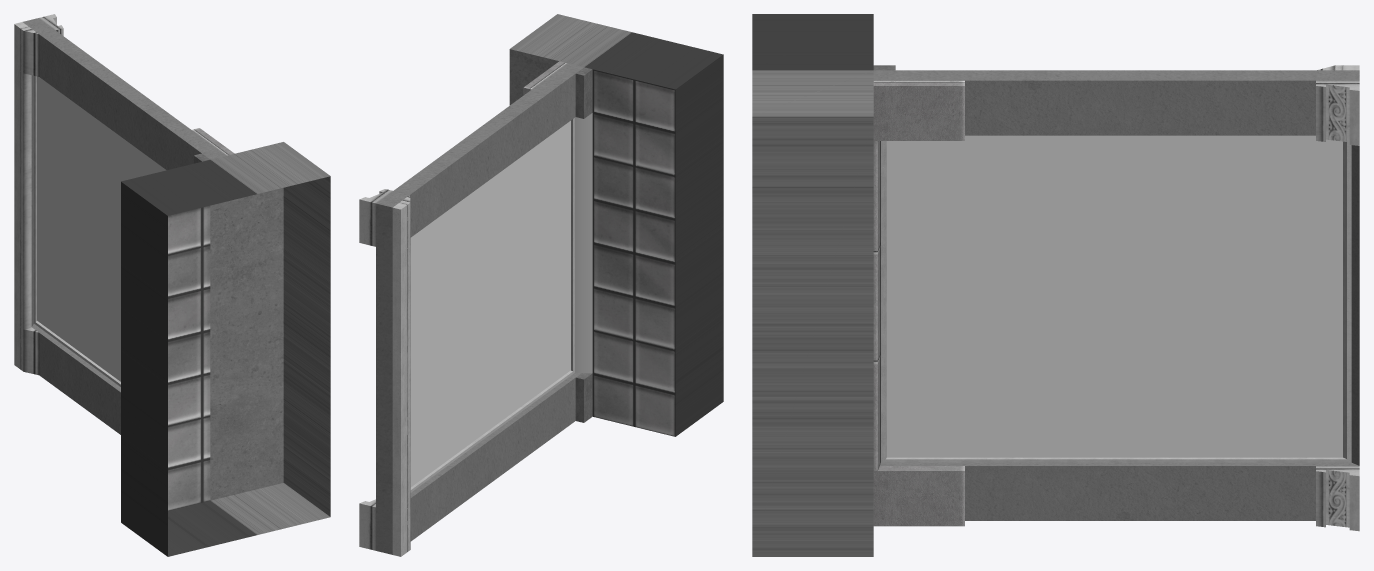
The model's file is A_ground_wall_ 4m_huge_window.fbx.
3 renders of one model, left to right at view 1: azimuth 30°, elevation 25°; view 2: azimuth 150°, elevation 25°; view 3: azimuth 270°, elevation 25°, orthographic. The views are drawn at different scales.
Visible parts, largest first — view 1: A_ground_wall__4m_huge_window, A_glass; view 2: A_ground_wall__4m_huge_window, A_glass; view 3: A_glass, A_ground_wall__4m_huge_window.
Part boxes in pixels (<box>): A_ground_wall__4m_huge_window: <box>14,14,330,556</box>; A_glass: <box>37,76,166,381</box>; A_ground_wall__4m_huge_window: <box>359,14,723,556</box>; A_glass: <box>410,121,570,487</box>; A_glass: <box>887,135,1342,457</box>; A_ground_wall__4m_huge_window: <box>752,14,1359,556</box>.
Bounding box in the file's own units: 2 × 4 × 5.
